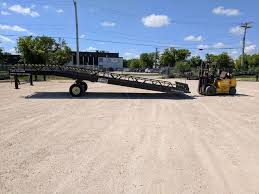Yard Ramp: (14, 65, 191, 88)
